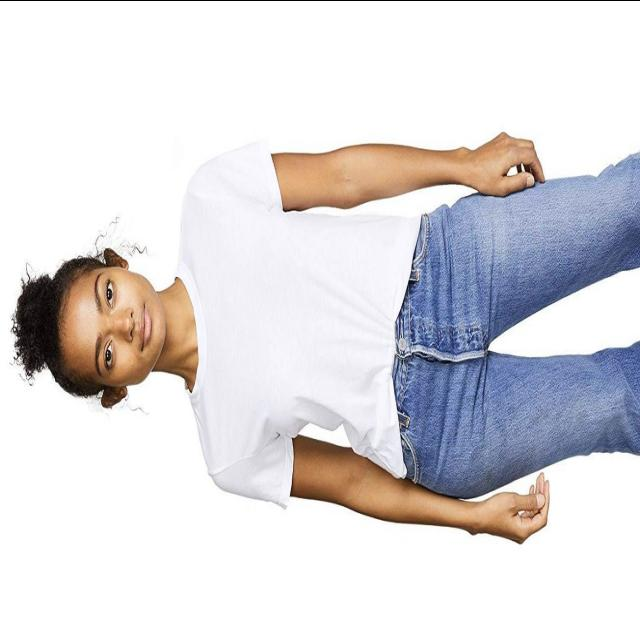shoulder: (180, 155, 258, 498)
